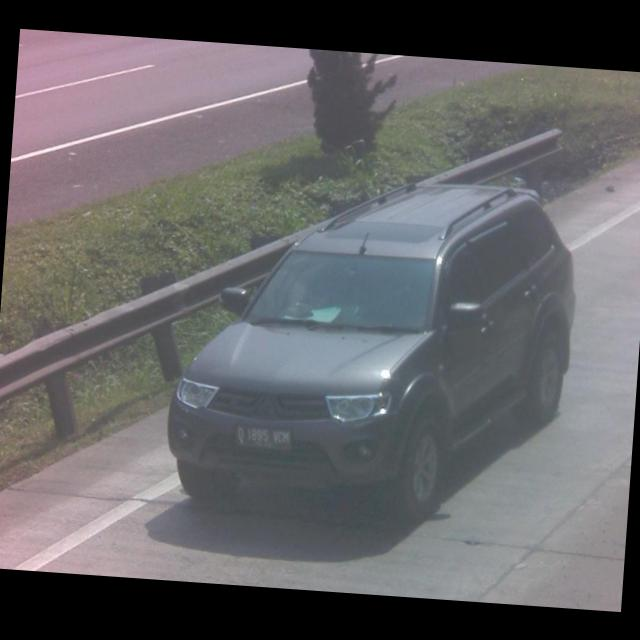plate: (230, 423, 293, 452)
